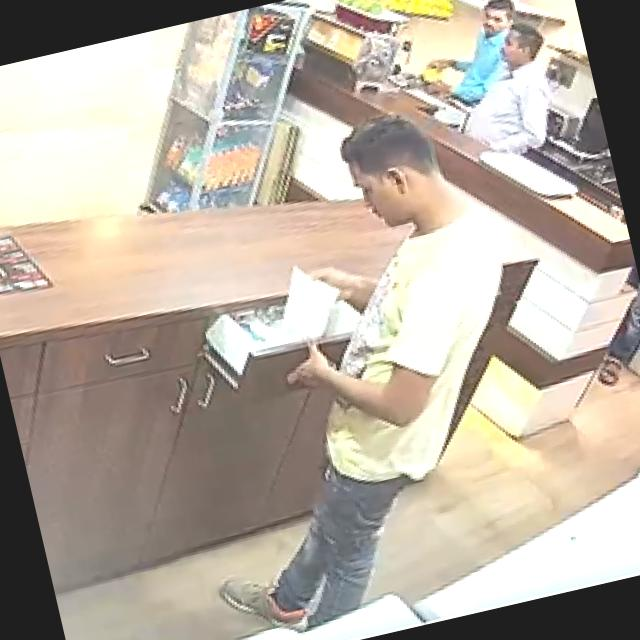person: (122, 97, 572, 640), (440, 18, 569, 168), (414, 0, 534, 113)
